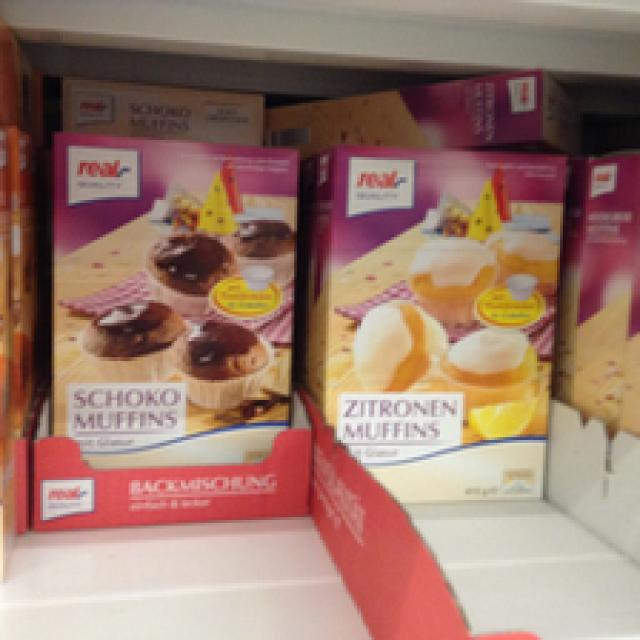groceries: (306, 137, 574, 517), (43, 123, 300, 511)
